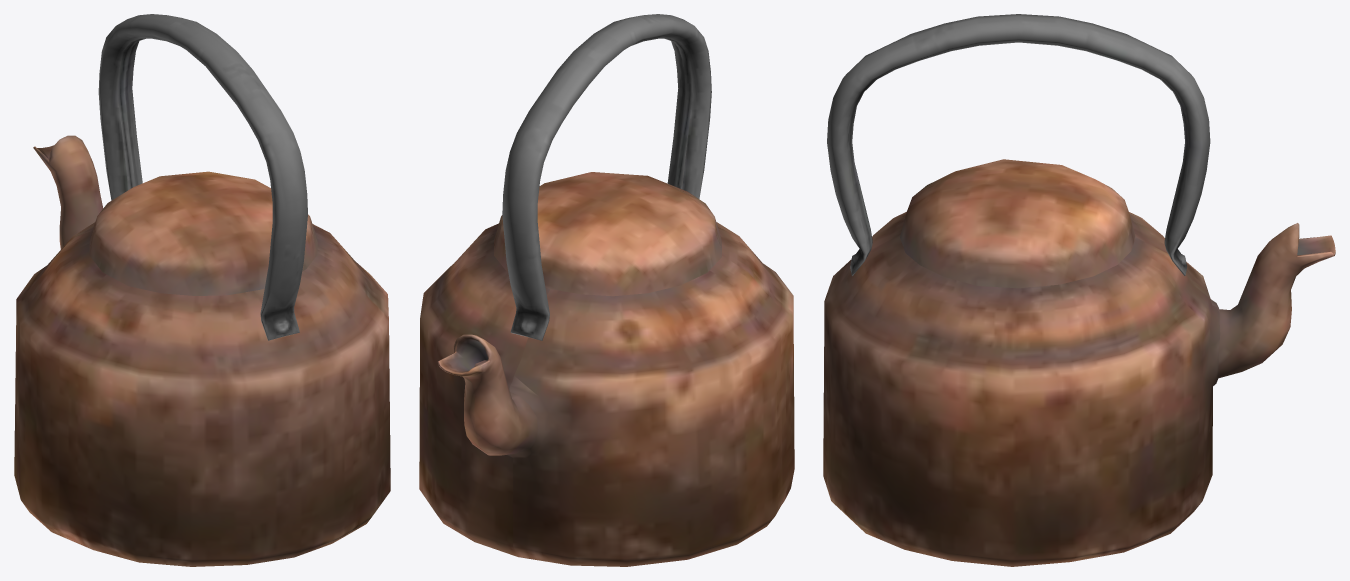
File: kettle.glb
The picture shows the model from 3 angles, left to right: view 1: azimuth 30°, elevation 25°; view 2: azimuth 150°, elevation 25°; view 3: azimuth 270°, elevation 25°; orthographic projection. The views are drawn at different scales.
Visible parts, largest first — view 1: kettle; view 2: kettle; view 3: kettle.
Boxes of the visible parts, x1,y1,x2,y2 form: kettle: (14,14,390,566); kettle: (419,14,794,566); kettle: (823,14,1335,566).
Size of the model in its own units: 0.2863 by 0.3836 by 0.3771.
Materials: 1 (1 with a texture image).
